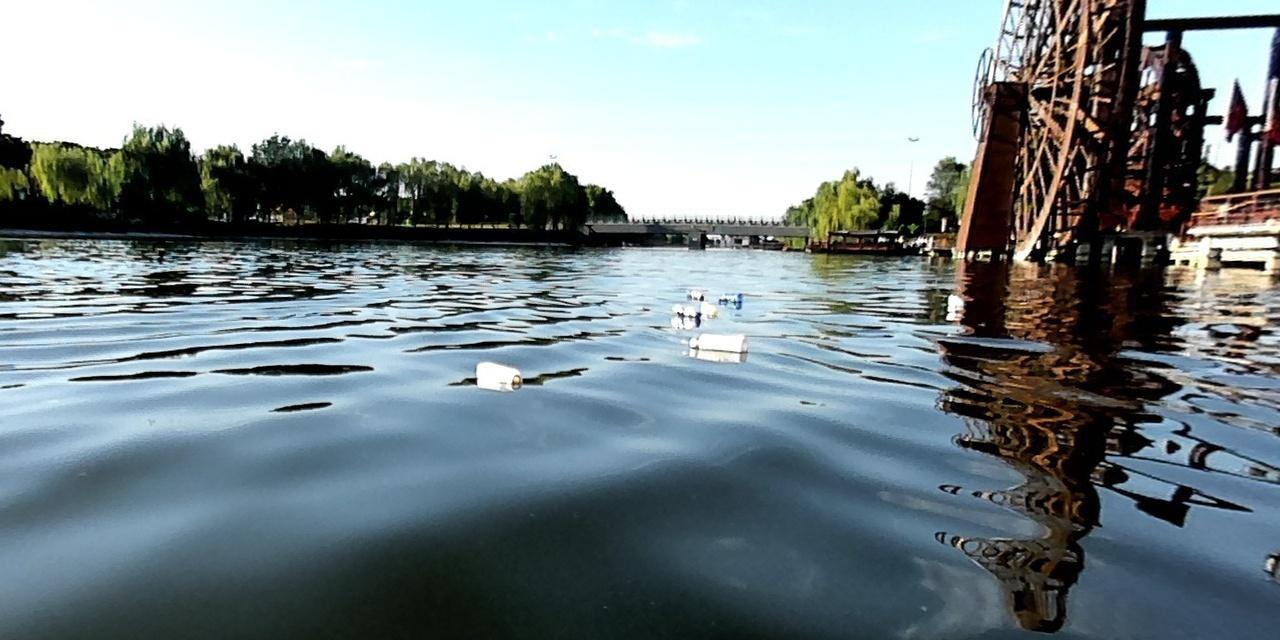bottle: (686, 329, 749, 354), (472, 359, 525, 385), (670, 300, 704, 322), (713, 291, 743, 303), (681, 284, 702, 298), (700, 300, 717, 317)
